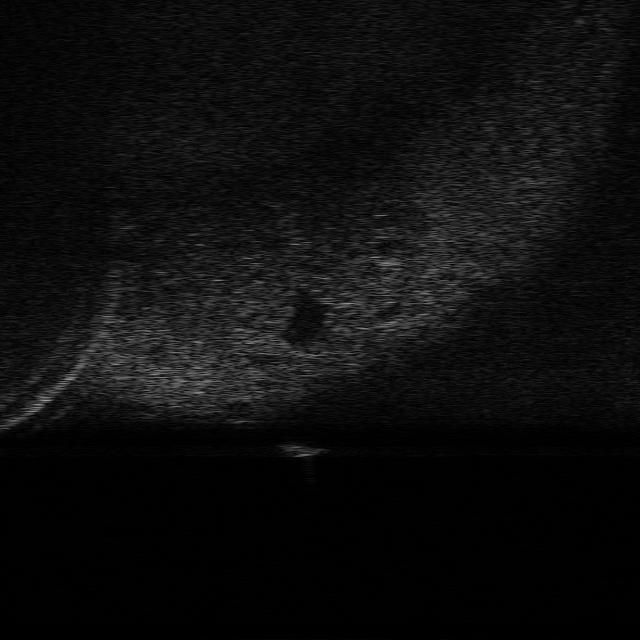cube: (275, 438, 331, 462)
